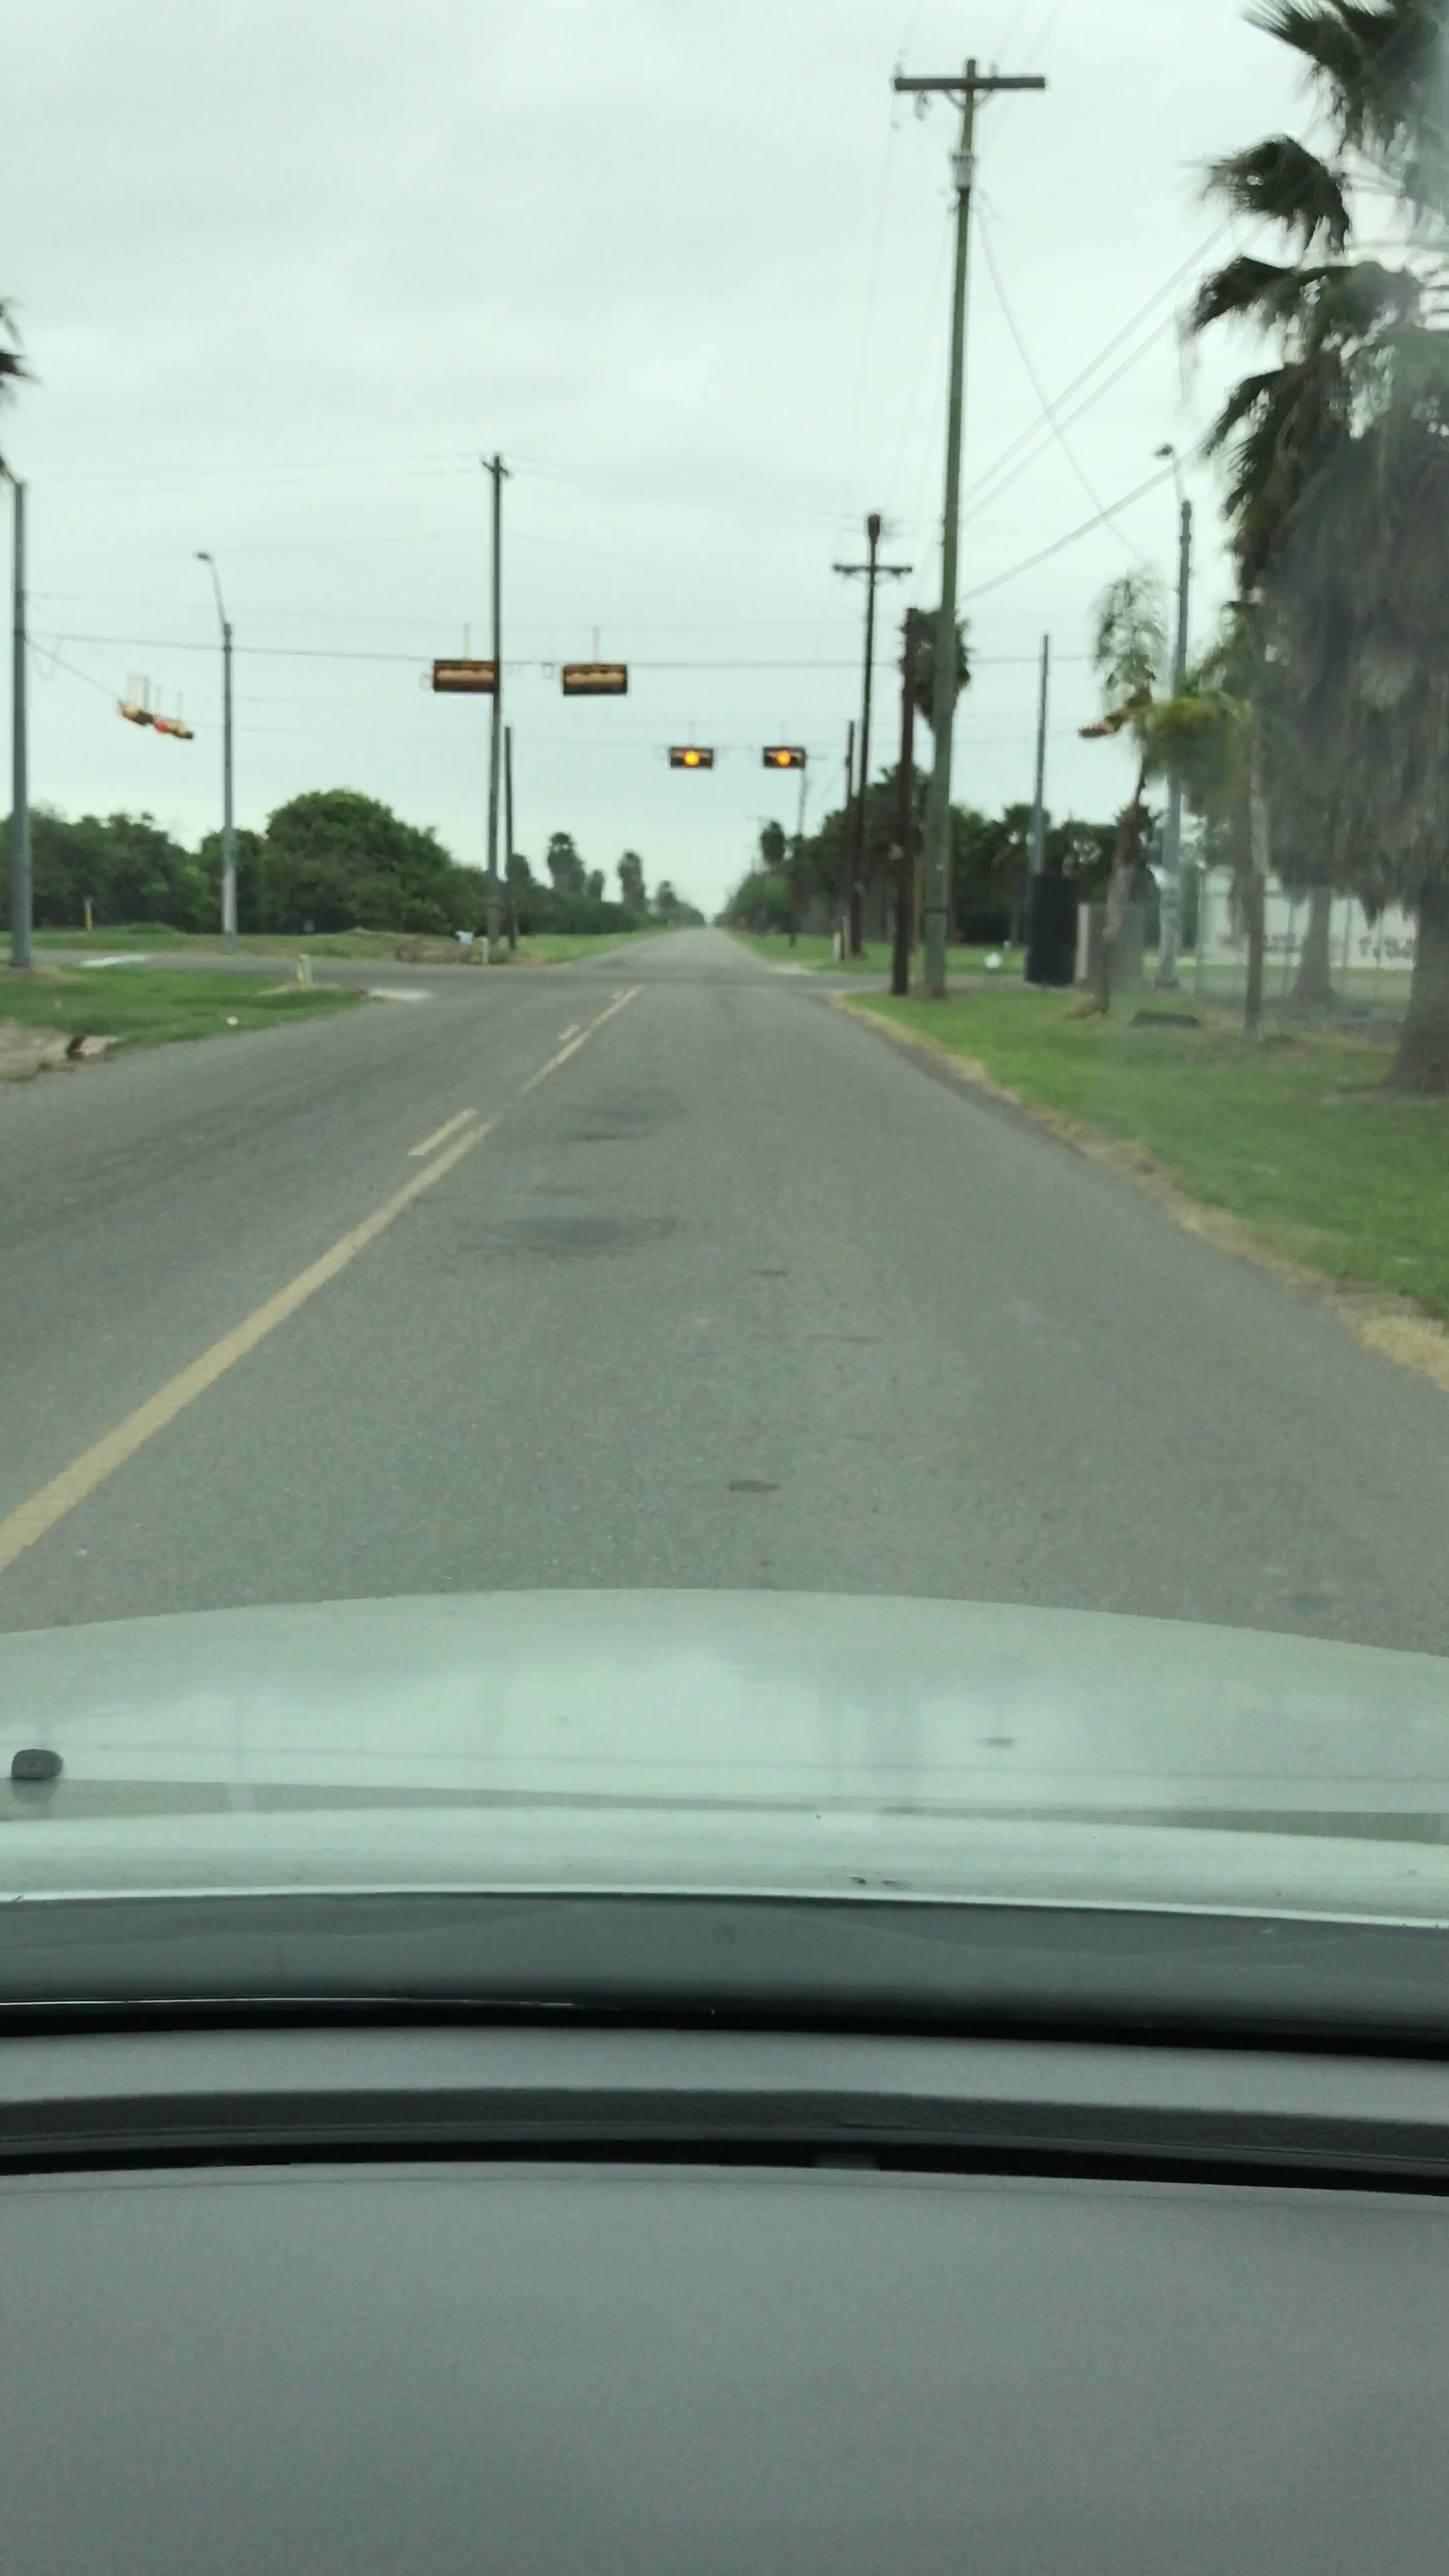blurredLine: (412, 1019, 609, 1185)
